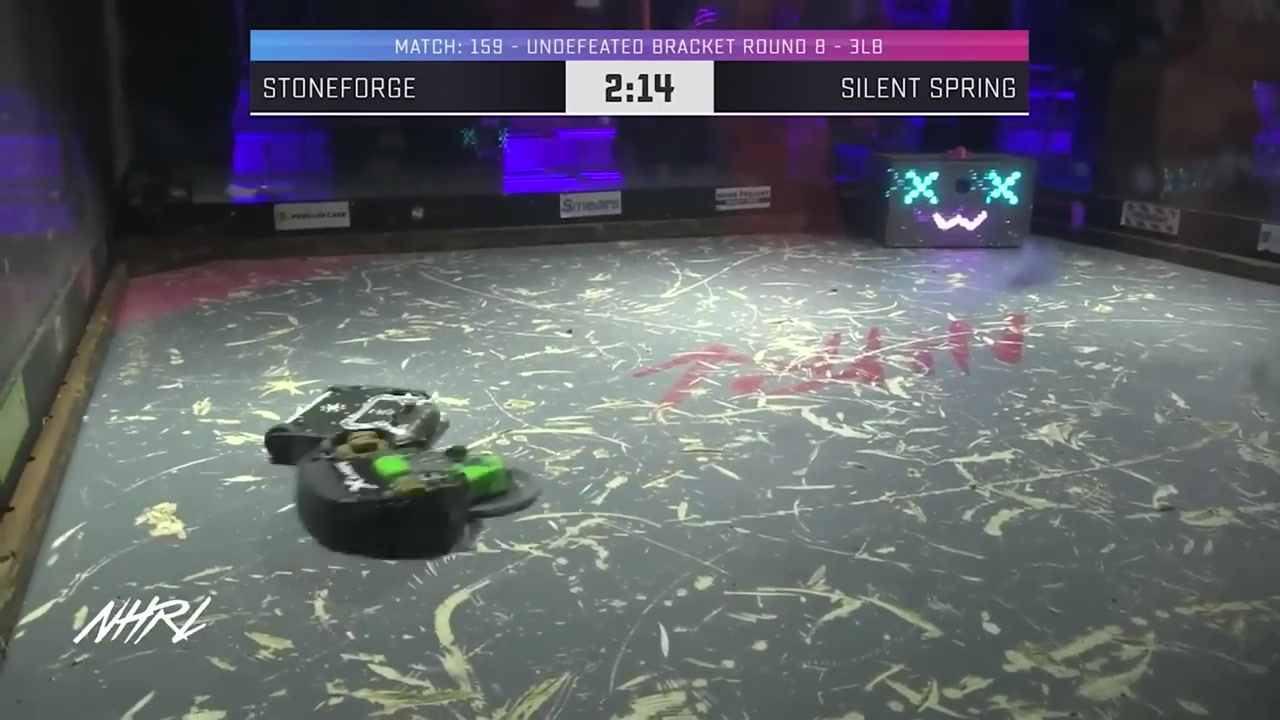combatbot: (299, 428, 508, 557), (265, 384, 445, 462)
housebot: (863, 152, 1035, 253)
